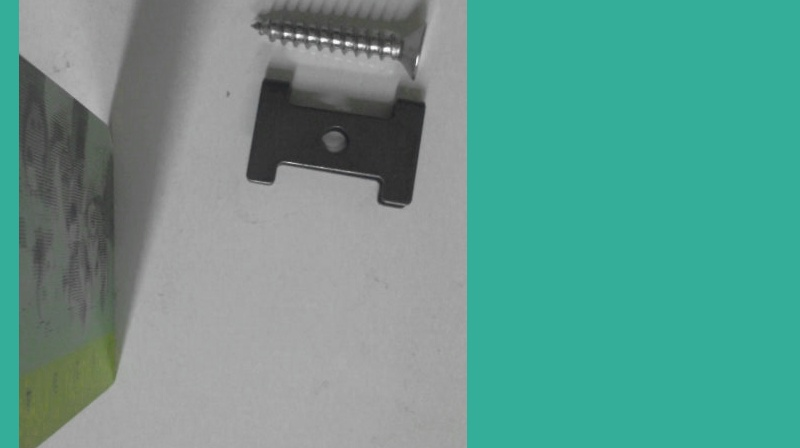O002: (248, 79, 426, 207)
S001: (240, 14, 430, 80)
